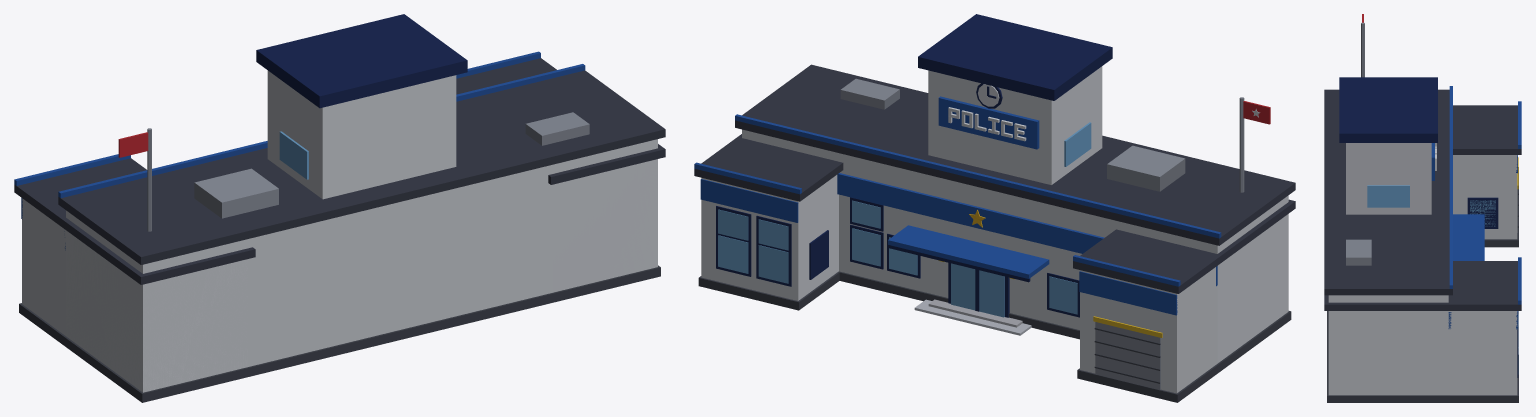
The model's file is Decor_PoliceStation_Station.fbx.
3 views of the same model, side by side, from view 1: azimuth 30°, elevation 25°; view 2: azimuth 150°, elevation 25°; view 3: azimuth 270°, elevation 25° (orthographic). The views are drawn at different scales.
Parts seen in each view (by area): view 1: Station_Body, Station_Roof; view 2: Station_Body, Station_Roof; view 3: Station_Body, Station_Roof.
Part boxes in pixels (bbox=[...]): Station_Body: bbox=[19, 70, 660, 402]; Station_Roof: bbox=[14, 14, 665, 284]; Station_Body: bbox=[698, 66, 1291, 402]; Station_Roof: bbox=[694, 14, 1295, 293]; Station_Body: bbox=[1327, 14, 1518, 402]; Station_Roof: bbox=[1324, 77, 1521, 310].
Bounding box in the file's own units: 55 × 25.6 × 23.
